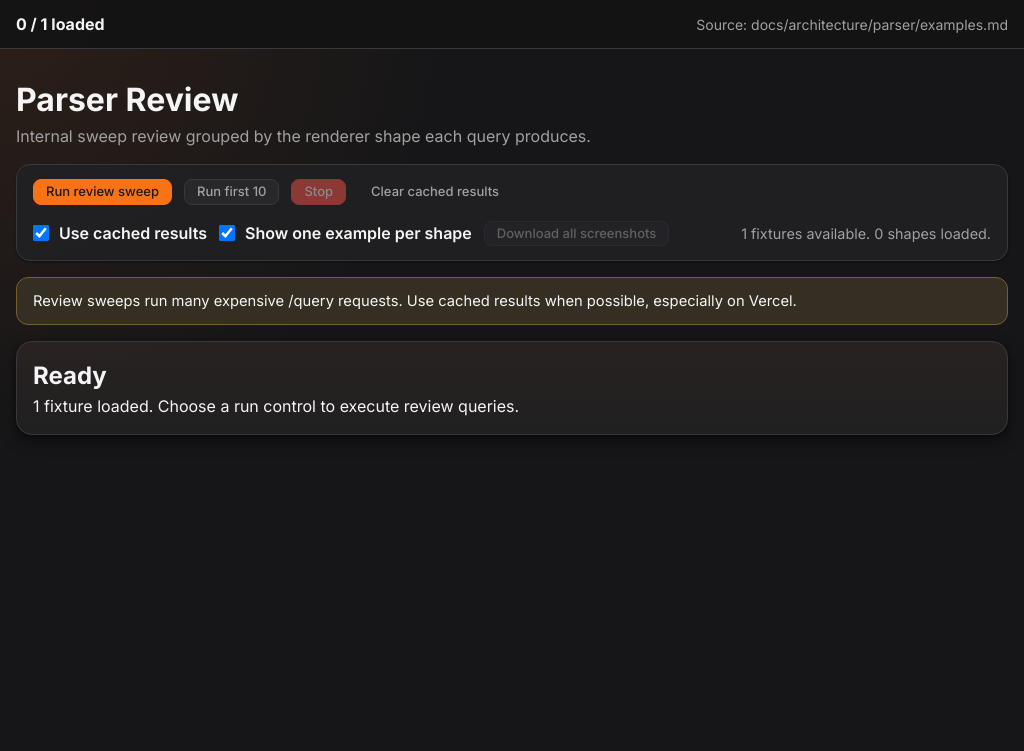
Scenario: ReviewPage › shows a capture error when screenshot generation fails
Expected: the text "0 / 1 loaded" is shown, [16,12,105,36]
What coordinates should you click on to do the following:
click the button "Run review sweep"
I would click on:
 (102, 192)
Its box is [33,179,172,205].
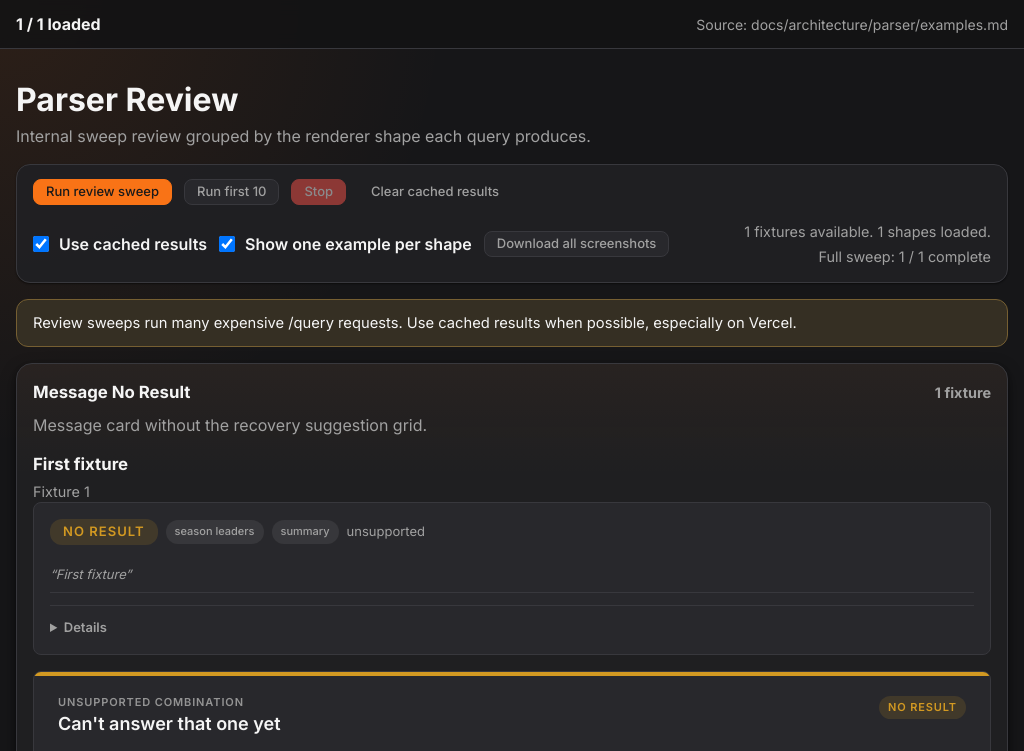
Result: the text "1 / 1 loaded" is shown at [16,12,101,36]
What coordinates should you click on to do the following:
click the button "Download all screenshots"
I would click on:
 (577, 244)
Its box is [484,231,669,257].
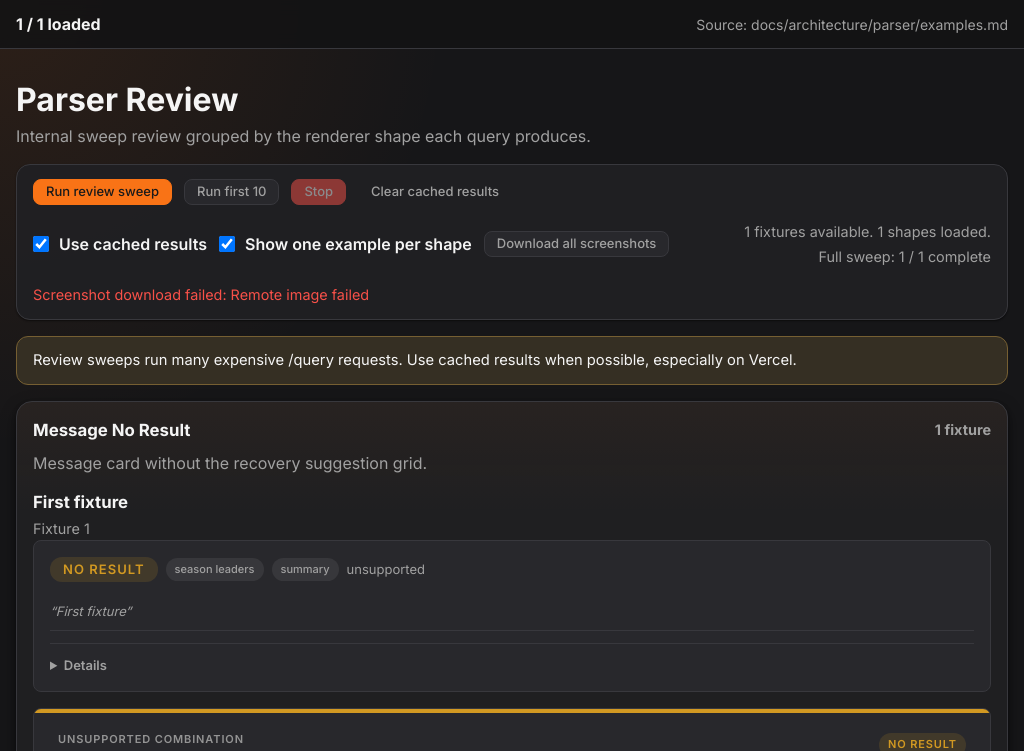
Result: the button "Download all screenshots" is enabled at [484,231,669,257]
Result: the text "Screenshot download failed: Remote image failed" is shown at [33,286,369,303]
